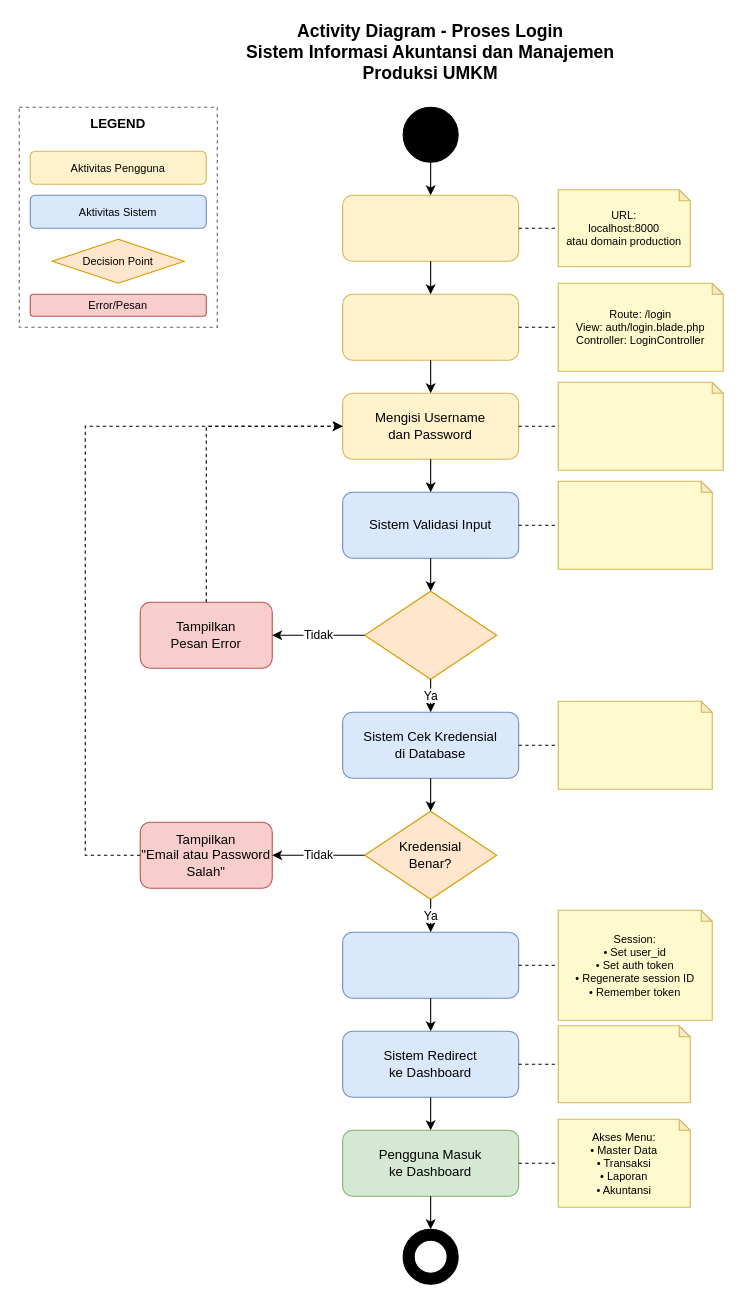
The diagram is 743 pixels wide and 1304 high, and some of its shapes have lost their labels. Each missing label, with the centre of its shape:
Data Valid?: the point at 430,634
Database: users • Cek email • Verify password (bcrypt): the point at 634,744
Input: • Email/Username • Password • Remember Me (opsional): the point at 640,425
Masuk ke Halaman Login: the point at 430,326
Membuka Website: the point at 430,227
Route: /dashboard Middleware: auth: the point at 623,1064
Sistem Buat Session Login: the point at 430,964
Validasi: • Format email • Password tidak kosong • CSRF token: the point at 634,524
